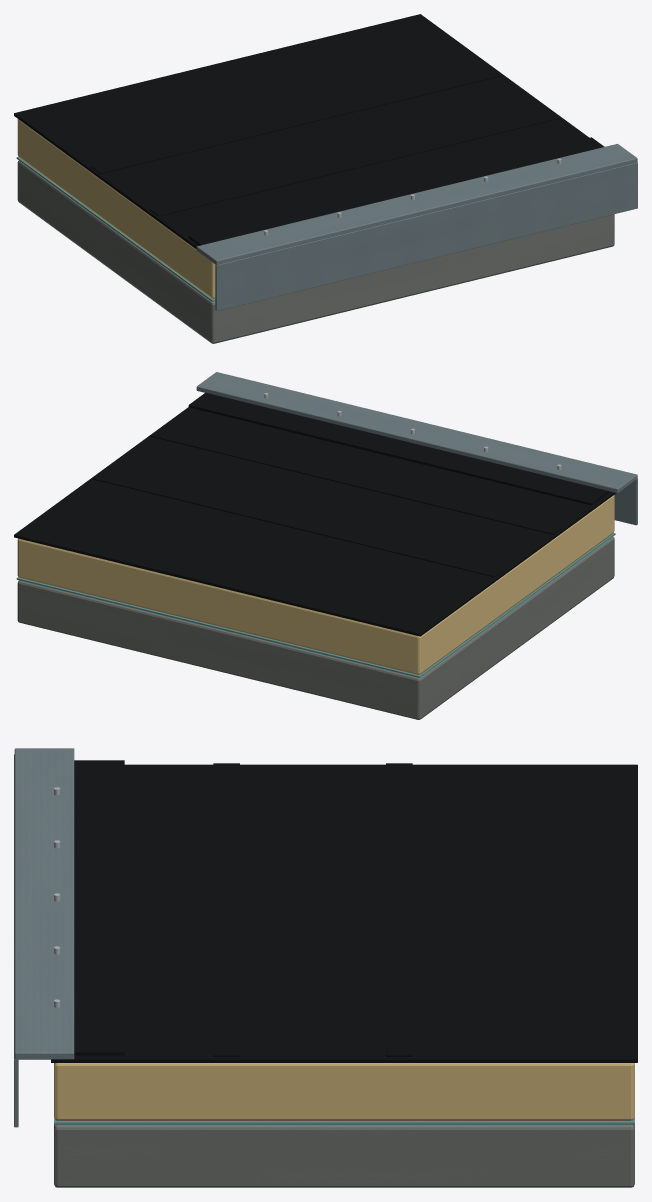
File: modell.glb
The picture shows the model from 3 angles, top to bottom: view 1: azimuth 30°, elevation 25°; view 2: azimuth 150°, elevation 25°; view 3: azimuth 270°, elevation 25°; orthographic projection. The views are drawn at different scales.
Visible parts, largest first — view 1: f06-abdichtung_deckung, f06-randprofil_, f06-untergrund_tragwerk, f06-naht_deckung, f06-daemmung_daemmung, f06-abdichtung_deckung.001, f06-luftdichtheit_luftdichtheit; view 2: f06-abdichtung_deckung, f06-untergrund_tragwerk, f06-daemmung_daemmung, f06-randprofil_, f06-naht_deckung, f06-abdichtung_deckung.001, f06-luftdichtheit_luftdichtheit; view 3: f06-abdichtung_deckung, f06-untergrund_tragwerk, f06-daemmung_daemmung, f06-randprofil_, f06-naht_deckung, f06-abdichtung_deckung.001, f06-luftdichtheit_luftdichtheit.
Boxes of the visible parts, x1=… form: f06-abdichtung_deckung: x1=14, y1=14, x2=589, y2=249; f06-randprofil_: x1=196, y1=144, x2=637, y2=310; f06-untergrund_tragwerk: x1=17, y1=160, x2=614, y2=343; f06-naht_deckung: x1=91, y1=68, x2=561, y2=216; f06-daemmung_daemmung: x1=17, y1=119, x2=215, y2=298; f06-abdichtung_deckung.001: x1=188, y1=137, x2=604, y2=245; f06-luftdichtheit_luftdichtheit: x1=16, y1=157, x2=215, y2=301; f06-abdichtung_deckung: x1=14, y1=407, x2=615, y2=636; f06-untergrund_tragwerk: x1=17, y1=536, x2=614, y2=719; f06-daemmung_daemmung: x1=17, y1=495, x2=614, y2=674; f06-randprofil_: x1=196, y1=372, x2=637, y2=525; f06-naht_deckung: x1=91, y1=429, x2=561, y2=577; f06-abdichtung_deckung.001: x1=188, y1=392, x2=610, y2=505; f06-luftdichtheit_luftdichtheit: x1=16, y1=533, x2=615, y2=677; f06-abdichtung_deckung: x1=51, y1=764, x2=637, y2=1062; f06-untergrund_tragwerk: x1=54, y1=1125, x2=634, y2=1187; f06-daemmung_daemmung: x1=54, y1=1063, x2=634, y2=1120; f06-randprofil_: x1=14, y1=748, x2=74, y2=1127; f06-naht_deckung: x1=213, y1=763, x2=412, y2=1056; f06-abdichtung_deckung.001: x1=74, y1=760, x2=124, y2=1055; f06-luftdichtheit_luftdichtheit: x1=54, y1=1117, x2=634, y2=1124.
Bounding box in the file's own units: 2.3 × 0.5225 × 1.99.
6 materials, 2 textured.
